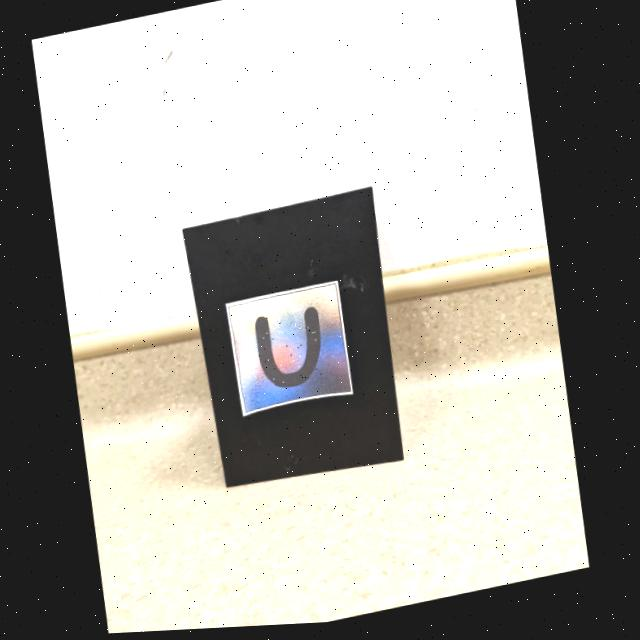U: (257, 309, 322, 387)
